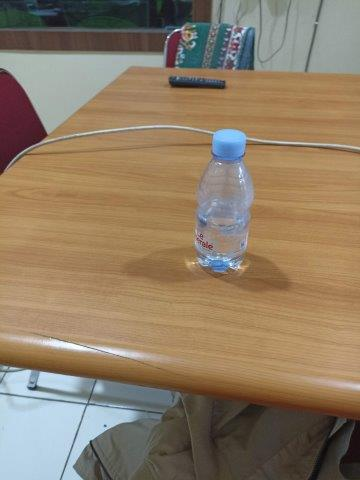botolplastik: (196, 128, 255, 273)
